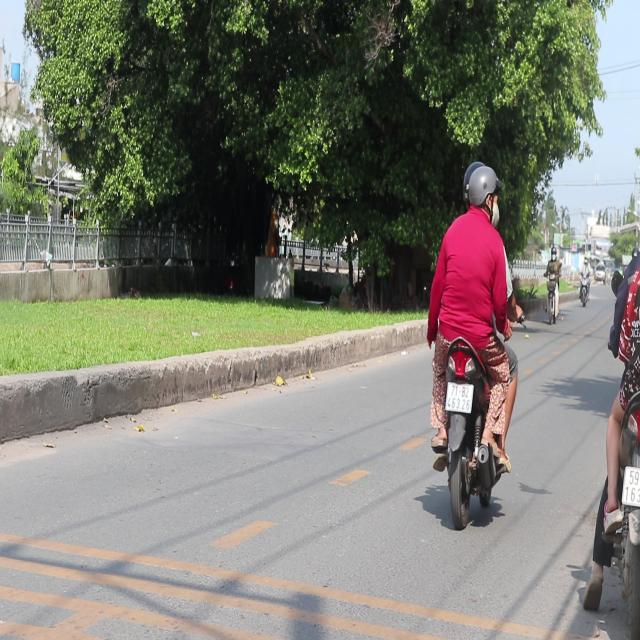helmet: (462, 159, 499, 217)
licenseplate: (419, 157, 522, 525), (581, 180, 639, 633)
nohelmet: (446, 382, 474, 413), (622, 465, 640, 506)
